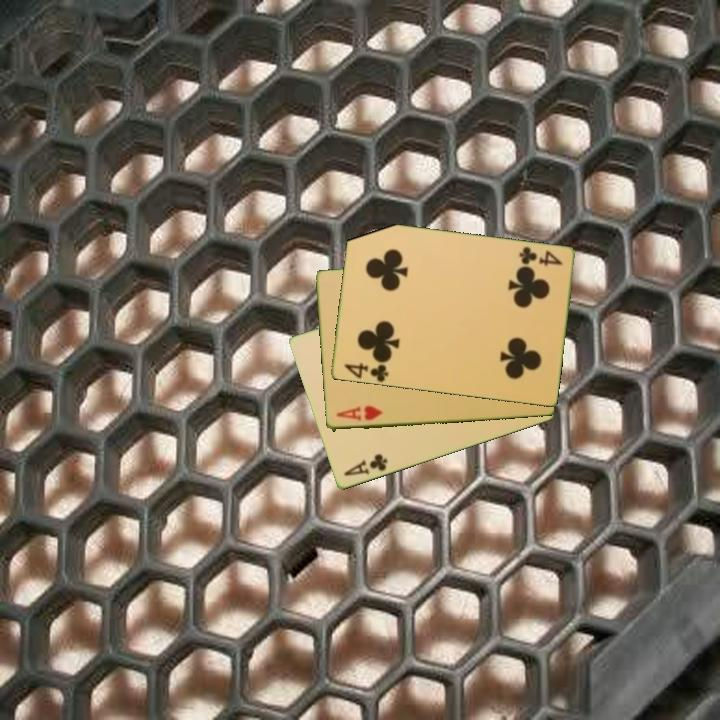4c: (515, 243, 565, 269), (340, 360, 391, 384)
Ac: (340, 450, 390, 479)
Ah: (332, 403, 385, 424)
